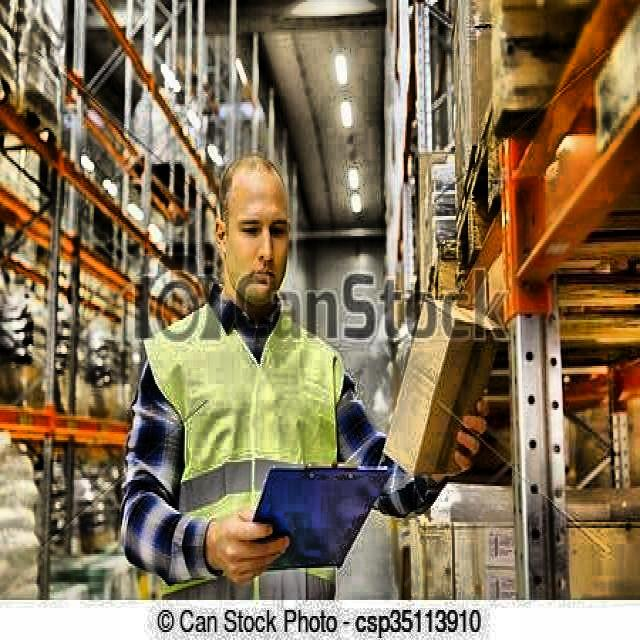safety_jacket: (168, 325, 364, 543)
